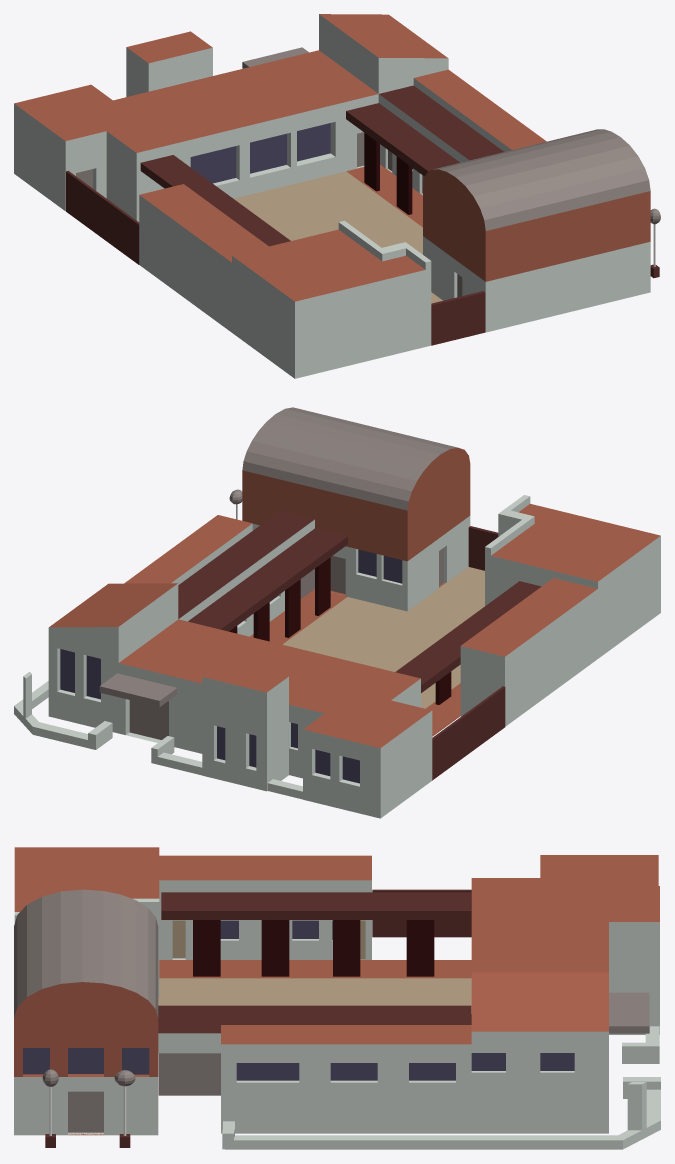
File: escuelaPrimaria.gltf
The picture shows the model from 3 angles, top to bottom: view 1: azimuth 30°, elevation 25°; view 2: azimuth 150°, elevation 25°; view 3: azimuth 270°, elevation 25°; orthographic projection. The views are drawn at different scales.
Visible parts, largest first — view 1: Edificio, SUM, Edficio 2, Patio piso, Techo galeria 2, Galería edificio 2, Tapial, Tapial 2, Piso galeria 2, Pilar galeria 2, Pilar galeria 1; view 2: Edificio, SUM, Edficio 2, Patio piso, Techo galeria 2, Galería edificio 2, Tapial, Tapial lado, Techo entrada, Piso galeria 2, Tapial frente, Piso galería 1 (+3 smaller); view 3: Edificio, SUM, Edficio 2, Patio piso, Galería edificio 2, Tapial lado, Piso galería 1, Techo galeria 2, Puerta de salida, Tapial, Techo entrada, Pilar galeria 8 (+4 smaller).
Boxes of the visible parts, bbox=[...] form: Edificio: bbox=[14, 14, 546, 221]; SUM: bbox=[423, 129, 650, 332]; Edficio 2: bbox=[139, 184, 431, 378]; Patio piso: bbox=[234, 171, 442, 303]; Techo galeria 2: bbox=[346, 103, 459, 176]; Galería edificio 2: bbox=[140, 155, 290, 246]; Tapial: bbox=[66, 170, 139, 264]; Tapial 2: bbox=[431, 291, 485, 345]; Piso galeria 2: bbox=[346, 164, 422, 227]; Pilar galeria 2: bbox=[396, 156, 412, 214]; Pilar galeria 1: bbox=[364, 133, 379, 191]; Edificio: bbox=[48, 511, 432, 818]; SUM: bbox=[242, 407, 470, 611]; Edficio 2: bbox=[460, 495, 660, 726]; Patio piso: bbox=[283, 567, 484, 708]; Techo galeria 2: bbox=[188, 528, 347, 631]; Galería edificio 2: bbox=[395, 581, 541, 692]; Tapial: bbox=[432, 686, 505, 780]; Tapial lado: bbox=[14, 671, 112, 749]; Techo entrada: bbox=[99, 673, 177, 707]; Piso galeria 2: bbox=[250, 589, 346, 644]; Tapial frente: bbox=[151, 736, 202, 775]; Piso galería 1: bbox=[426, 683, 460, 736]; Edificio: bbox=[158, 855, 659, 1133]; SUM: bbox=[14, 889, 158, 1135]; Edficio 2: bbox=[14, 847, 371, 998]; Patio piso: bbox=[158, 978, 471, 1013]; Galería edificio 2: bbox=[161, 892, 471, 919]; Tapial lado: bbox=[222, 1077, 660, 1149]; Piso galería 1: bbox=[159, 960, 471, 978]; Techo galeria 2: bbox=[158, 1005, 471, 1013]; Puerta de salida: bbox=[158, 1053, 220, 1095]; Tapial: bbox=[372, 889, 471, 937]; Techo entrada: bbox=[609, 992, 649, 1033]; Pilar galeria 8: bbox=[406, 920, 434, 976].
Bounding box in the file's own units: 7.1 × 2.37 × 9.08.
